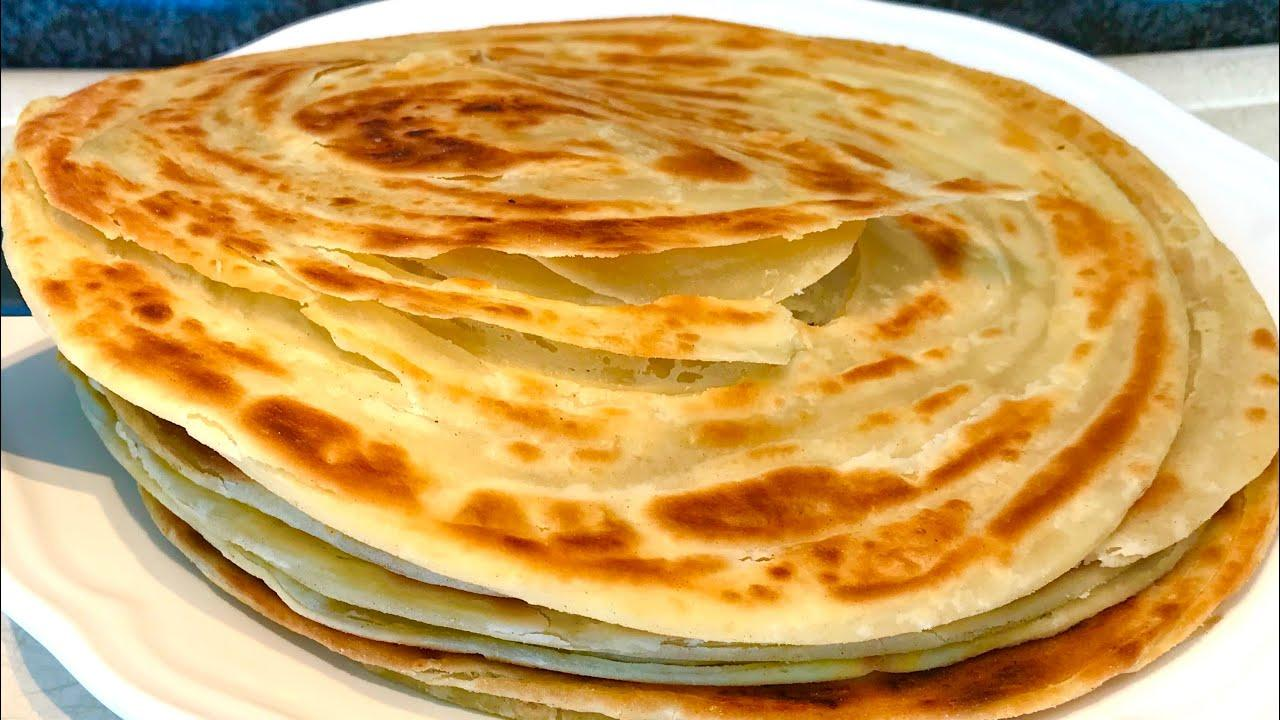chapati: (5, 15, 1278, 648)
